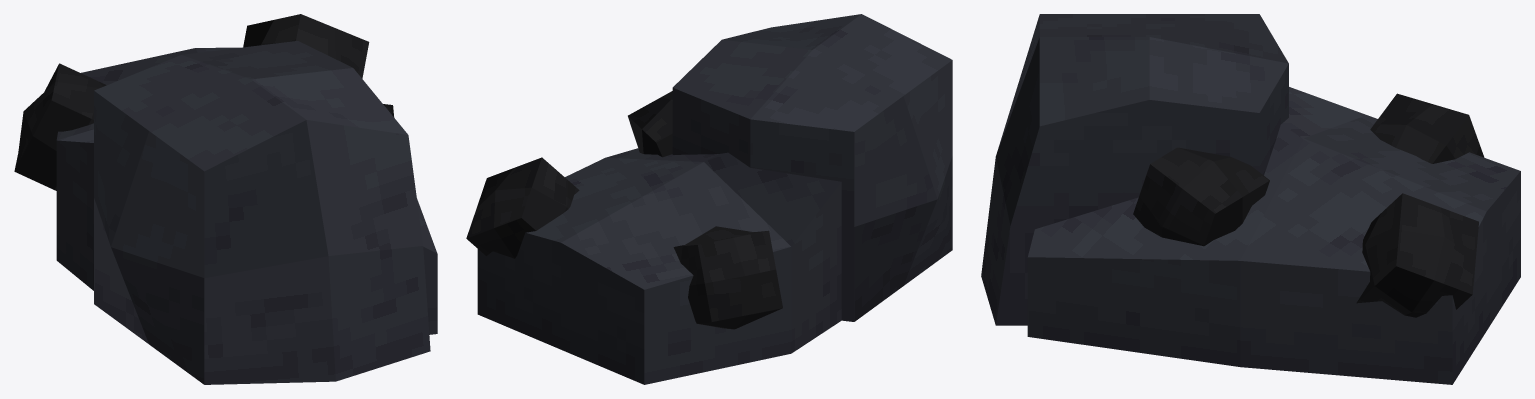
Rendered from testRock.gltf.
The picture shows the model from 3 angles, left to right: view 1: azimuth 30°, elevation 25°; view 2: azimuth 150°, elevation 25°; view 3: azimuth 270°, elevation 25°; orthographic projection. The views are drawn at different scales.
Parts seen in each view (by area): view 1: rock; view 2: rock; view 3: rock.
Part boxes in pixels (bbox=[...]): rock: bbox=[14, 14, 437, 384]; rock: bbox=[466, 14, 952, 384]; rock: bbox=[981, 14, 1520, 384].
Size of the model in its own units: 1.87 by 1.12 by 2.3.
Materials: 1 (1 with a texture image).
